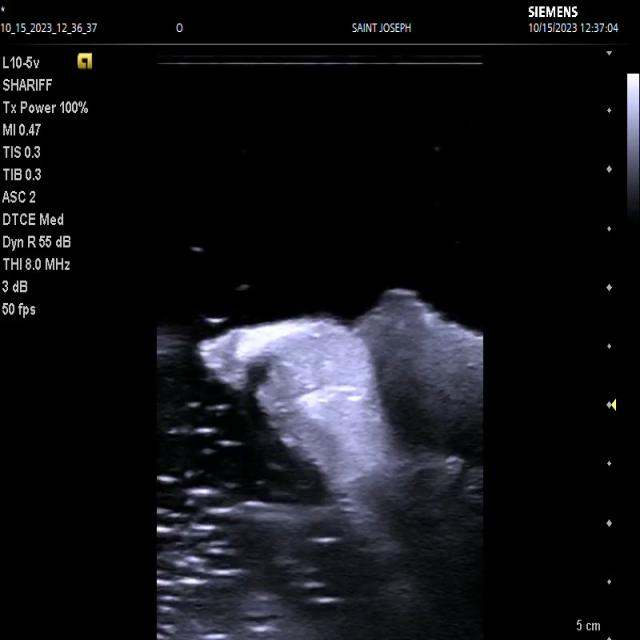tissue: (198, 291, 482, 596)
